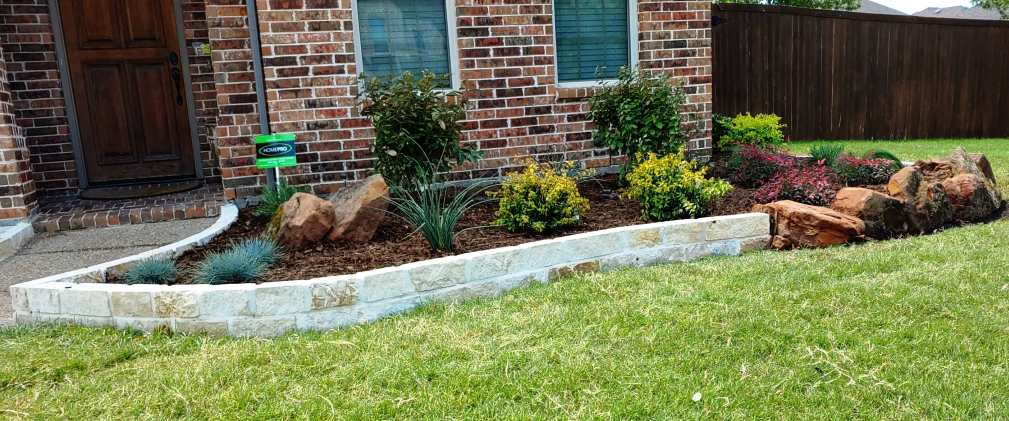grass: (1, 319, 1004, 415), (478, 235, 999, 319)
rock: (764, 152, 999, 246), (272, 178, 408, 246)
